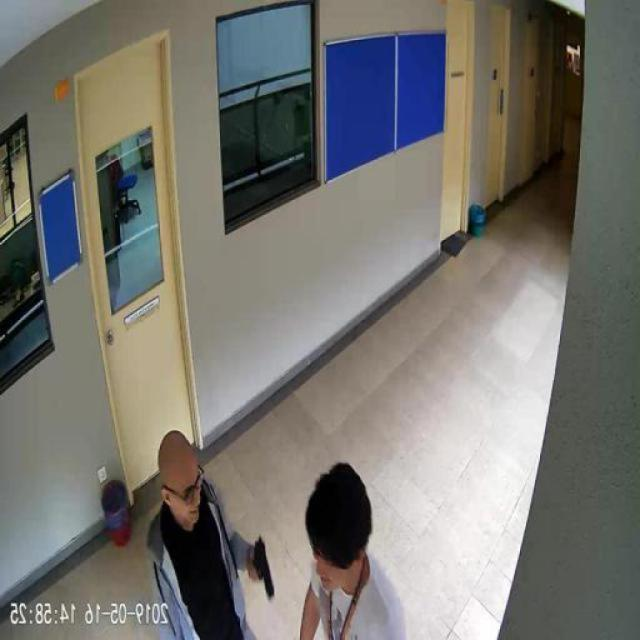pistol: (252, 534, 276, 598)
